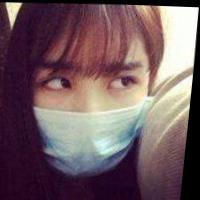WRONG: (19, 50, 155, 180)
